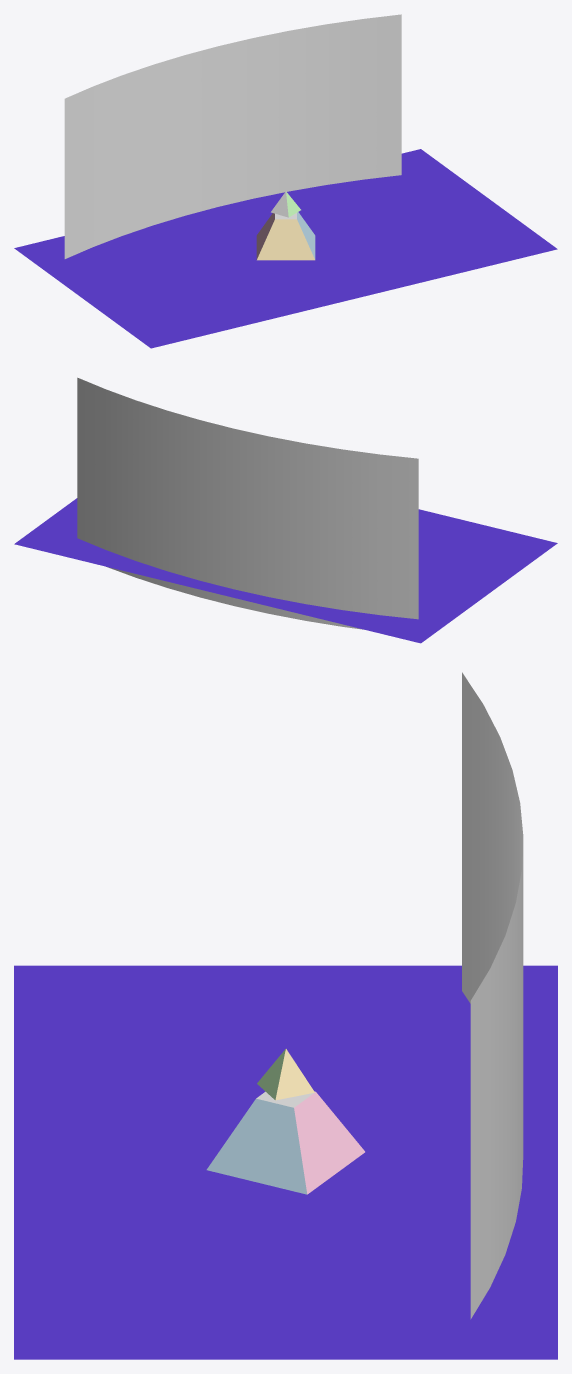
File: Daft_punk.gltf
3 renders of one model, top to bottom at view 1: azimuth 30°, elevation 25°; view 2: azimuth 150°, elevation 25°; view 3: azimuth 270°, elevation 25°, orthographic. The views are drawn at different scales.
Parts seen in each view (by area): view 1: Plane.1, Plane, Pyramid_bas, Pyramid_haut; view 2: Plane.1, Plane; view 3: Plane, Plane.1, Pyramid_bas, Pyramid_haut.
Boxes of the visible parts, bbox=[...] form: Plane.1: bbox=[64, 14, 401, 258]; Plane: bbox=[14, 149, 557, 348]; Pyramid_bas: bbox=[256, 212, 315, 260]; Pyramid_haut: bbox=[271, 191, 300, 217]; Plane.1: bbox=[77, 377, 418, 629]; Plane: bbox=[14, 498, 557, 643]; Plane: bbox=[14, 965, 557, 1359]; Plane.1: bbox=[462, 672, 523, 1319]; Pyramid_bas: bbox=[206, 1091, 364, 1194]; Pyramid_haut: bbox=[257, 1049, 314, 1100].
Size of the model in its own units: 240 by 100 by 140.
